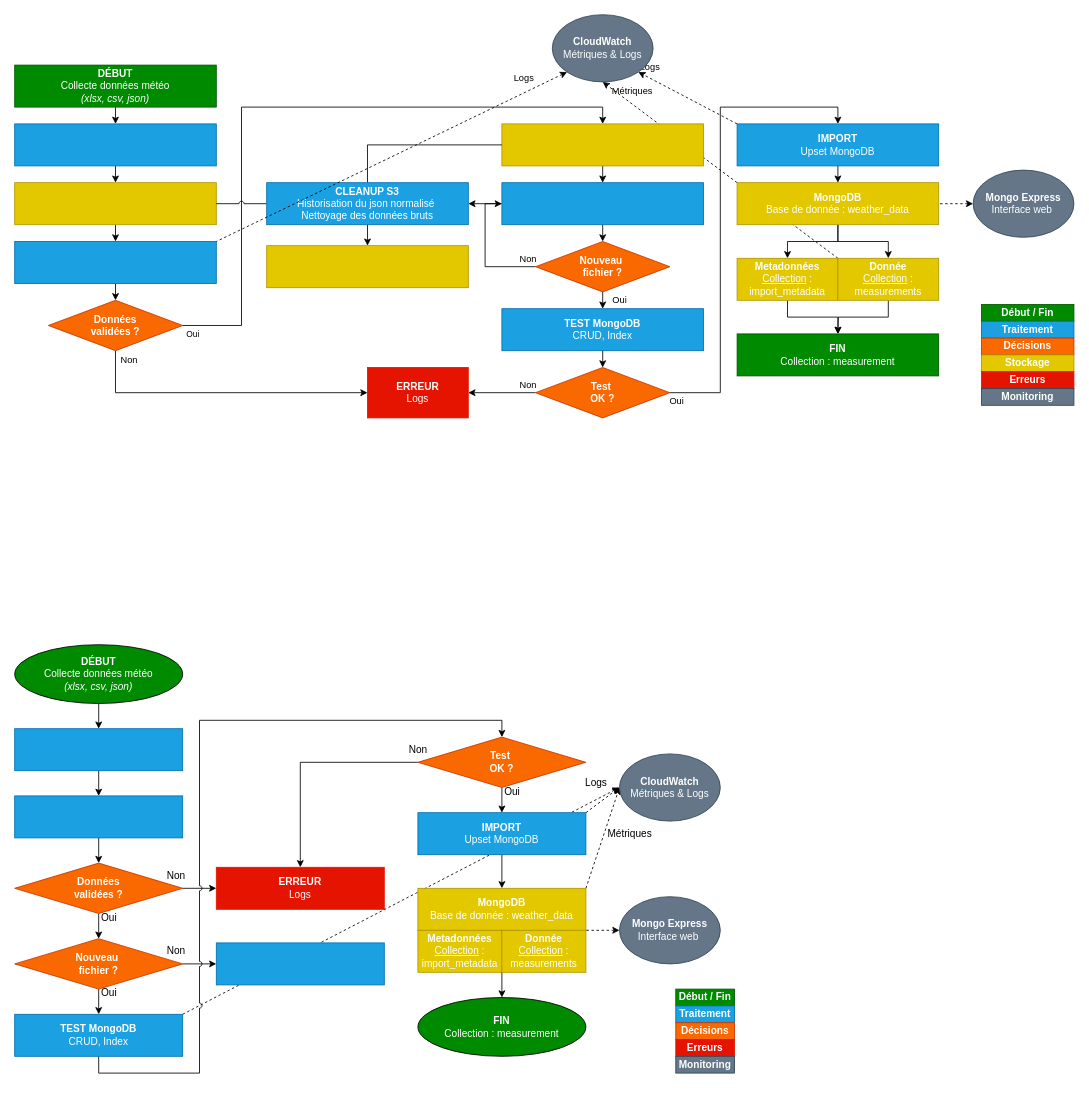
Some shapes in this 1089 by 1095 pixel diagram are drawn without their labels. The box of each missing label's shape, as (x1, y1, x2, y2) in pixels:
AIRBYTE Ingestion source: (14, 123, 216, 166)
AIRBYTE Ingestion source URL vers S3 > 01_raw: (14, 728, 183, 771)
CLEANUP S3 cut 02_cleaned/* vers 03_archived delete 01_raw/*: (215, 942, 384, 985)
ETL PYTHON Transformation & Nettoyage: (14, 241, 216, 284)
ETL PYTHON Transformation & Nettoyage S3 > 02_cleaned: (14, 795, 183, 838)
S3: 01_raw Fichier JSONL bruts: (14, 182, 216, 225)
S3: 02_cleaned Fichier JSON normalisé: (501, 123, 704, 166)
S3: 03_archived Historique: (266, 245, 468, 288)
WATCH S3 Surveillance du bucket: (501, 182, 704, 225)
